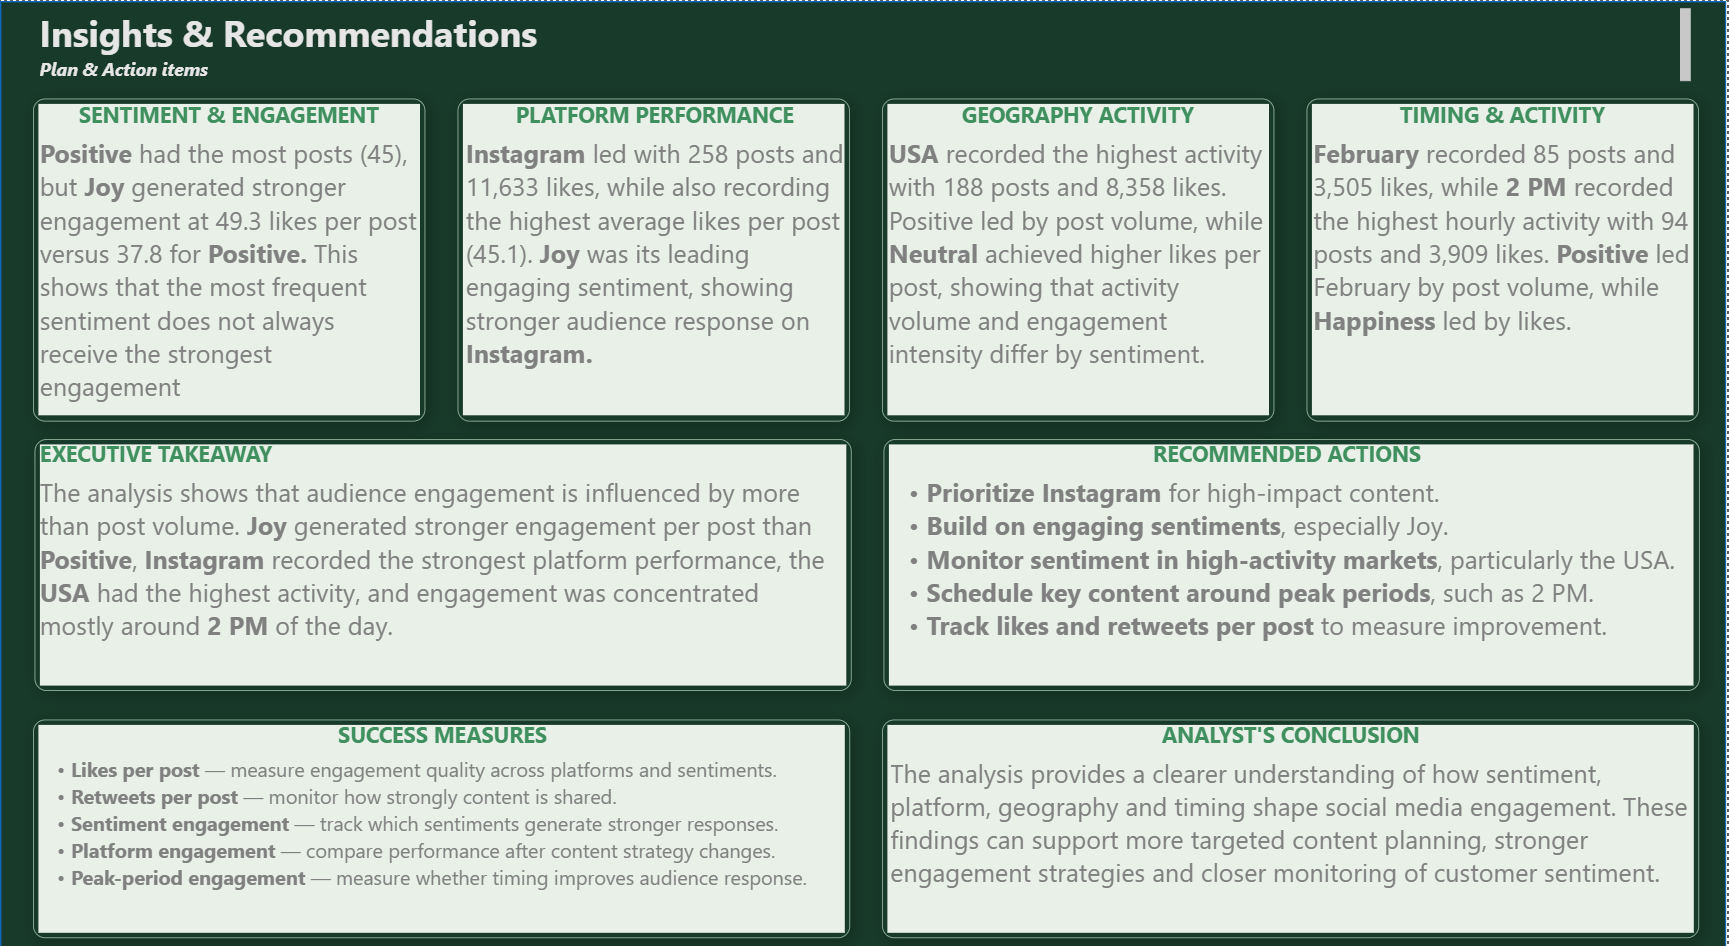

The dashboard page shown, as its layout file describes it:
{"tool":"powerbi","page":{"name":"Insight ","canvas":[1280,720],"ordinal":2},"visuals":[{"type":"shape","box":[0,0,1279.5,720.8],"z":0},{"type":"shape","box":[24.2,72.7,290.7,239.2],"z":1000},{"type":"shape","box":[24.4,532.2,605.6,162.2],"z":2000},{"type":"shape","box":[25.6,324.4,605.6,186.7],"z":3000},{"type":"textbox","title":"EXECUTIVE TAKEAWAY","box":[24.4,324.4,605.6,186.7],"z":4000},{"type":"shape","box":[338.7,72.7,290.7,239.2],"z":5000},{"type":"shape","box":[653.1,72.7,290.7,239.2],"z":6000},{"type":"shape","box":[967.6,72.7,290.7,239.2],"z":7000},{"type":"textbox","title":"SUCCESS MEASURES","box":[25.6,532.2,604.4,162.2],"z":8000},{"type":"shape","box":[653.3,532.2,605.6,162.2],"z":9000},{"type":"textbox","title":"ANALYST''S CONCLUSION","box":[654.4,532.2,603.3,162.2],"z":10000},{"type":"textbox","title":"SENTIMENT & ENGAGEMENT","box":[24.8,72.9,290.1,239.1],"z":11000},{"type":"textbox","title":"PLATFORM PERFORMANCE ","box":[339.7,72.9,290.1,239.1],"z":12000},{"type":"textbox","title":"GEOGRAPHY ACTIVITY","box":[653.1,72.9,290.1,239.1],"z":13000},{"type":"textbox","title":"TIMING & ACTIVITY","box":[968,72.9,290.1,239.1],"z":14000},{"type":"textbox","box":[24.5,0,1233.1,72.3],"z":15000},{"type":"shape","box":[654.4,324.4,604.4,186.7],"z":16000},{"type":"textbox","title":"RECOMMENDED ACTIONS","box":[653.3,324.4,600,184.4],"z":17000}]}

Visuals, with their boxes in screenshot pixels (x1, y1, x2, y2), scaled from the page's 1280x720 canvas onto the 1729x946 screenshot:
shape: 0,0,1728,945
shape: 33,96,425,410
shape: 33,699,851,912
shape: 35,426,853,672
"EXECUTIVE TAKEAWAY" textbox: 33,426,851,672
shape: 458,96,850,410
shape: 882,96,1275,410
shape: 1307,96,1700,410
"SUCCESS MEASURES" textbox: 35,699,851,912
shape: 882,699,1700,912
"ANALYST''S CONCLUSION" textbox: 884,699,1699,912
"SENTIMENT & ENGAGEMENT" textbox: 33,96,425,410
"PLATFORM PERFORMANCE " textbox: 459,96,851,410
"GEOGRAPHY ACTIVITY" textbox: 882,96,1274,410
"TIMING & ACTIVITY" textbox: 1308,96,1699,410
textbox: 33,0,1699,95
shape: 884,426,1700,672
"RECOMMENDED ACTIONS" textbox: 882,426,1693,669
